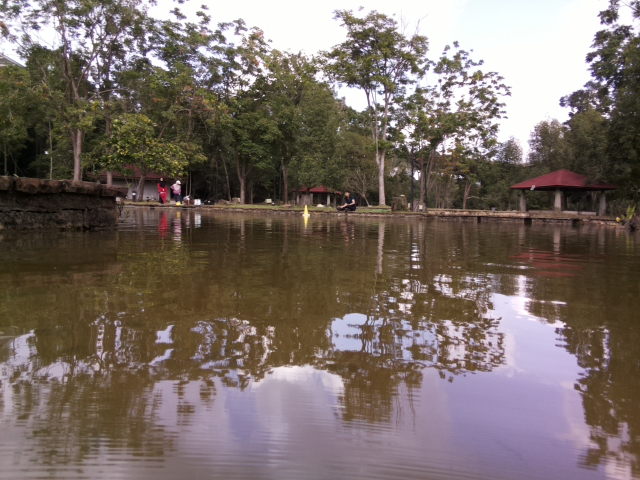checkpoint: (300, 204, 313, 218)
